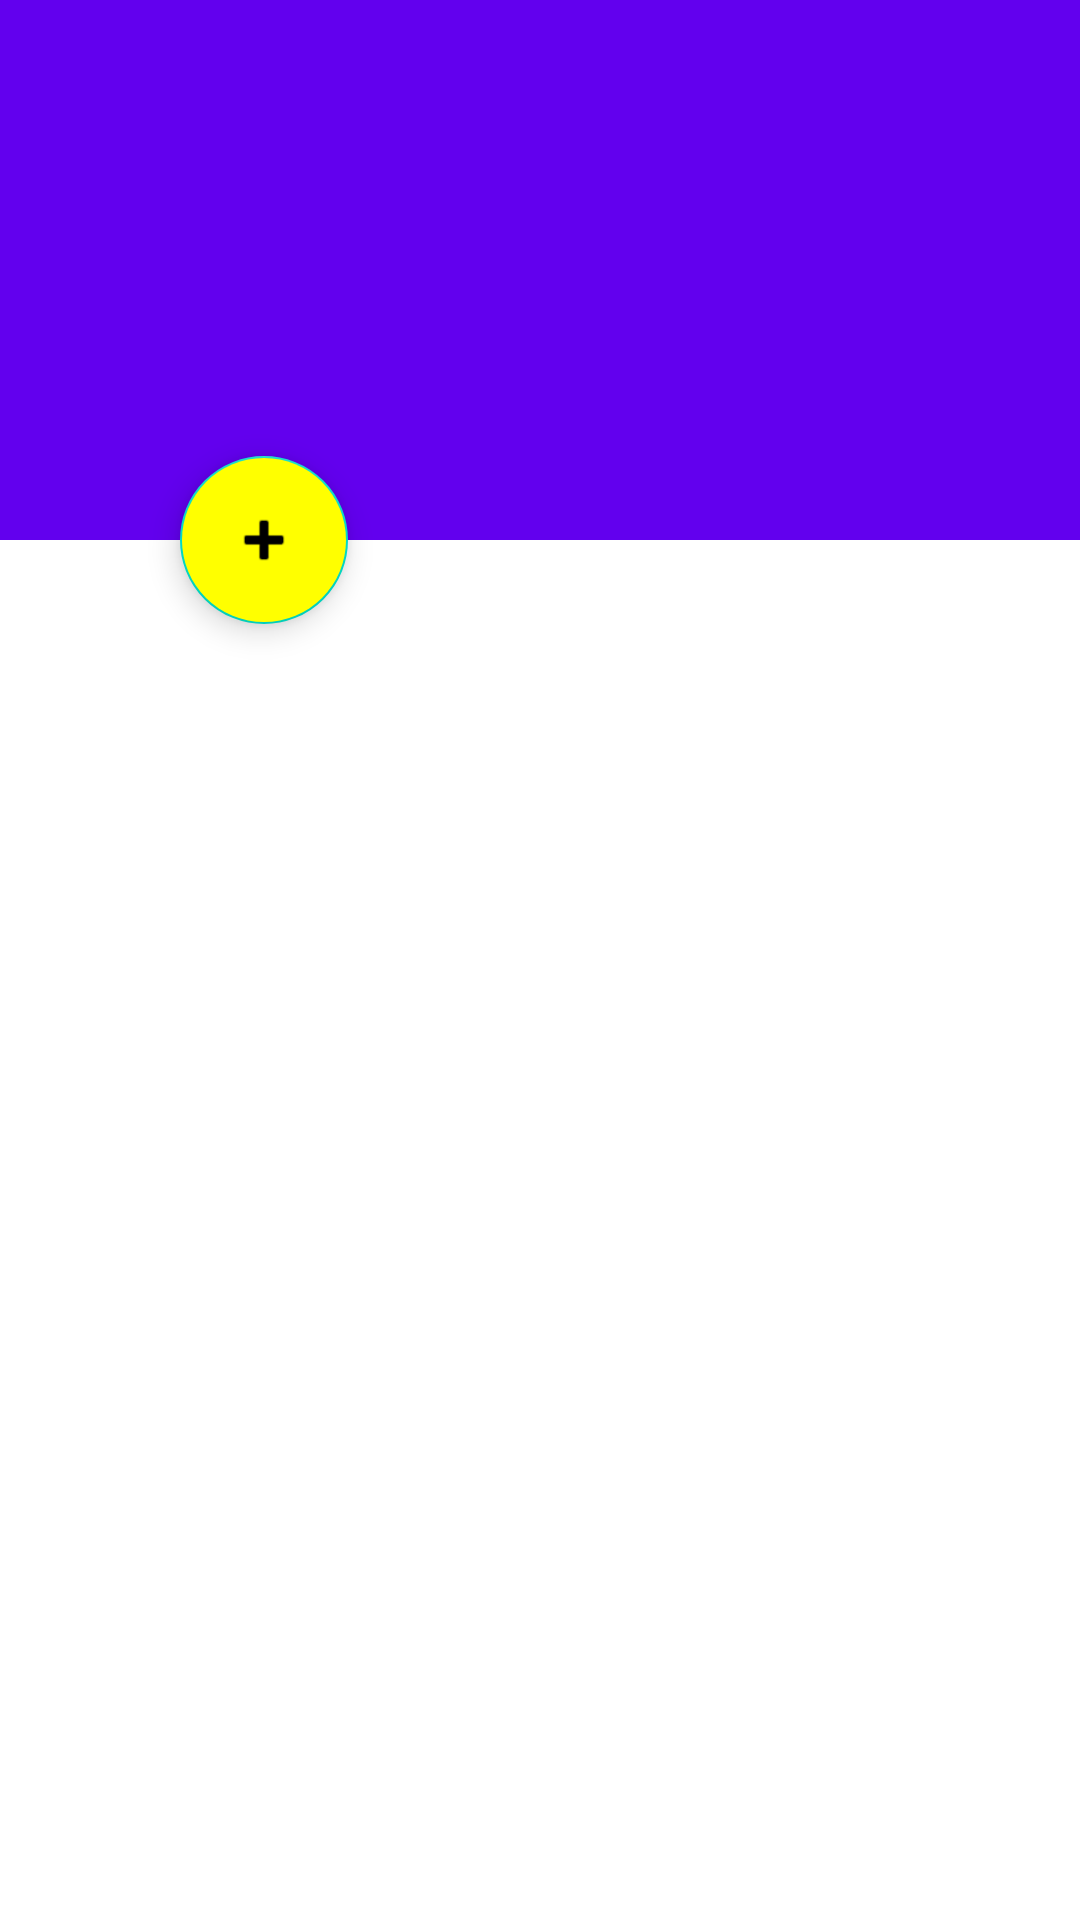

Named icons in this screenshot (1080x1920) and their centers, (x,y):
add: (264,540)
